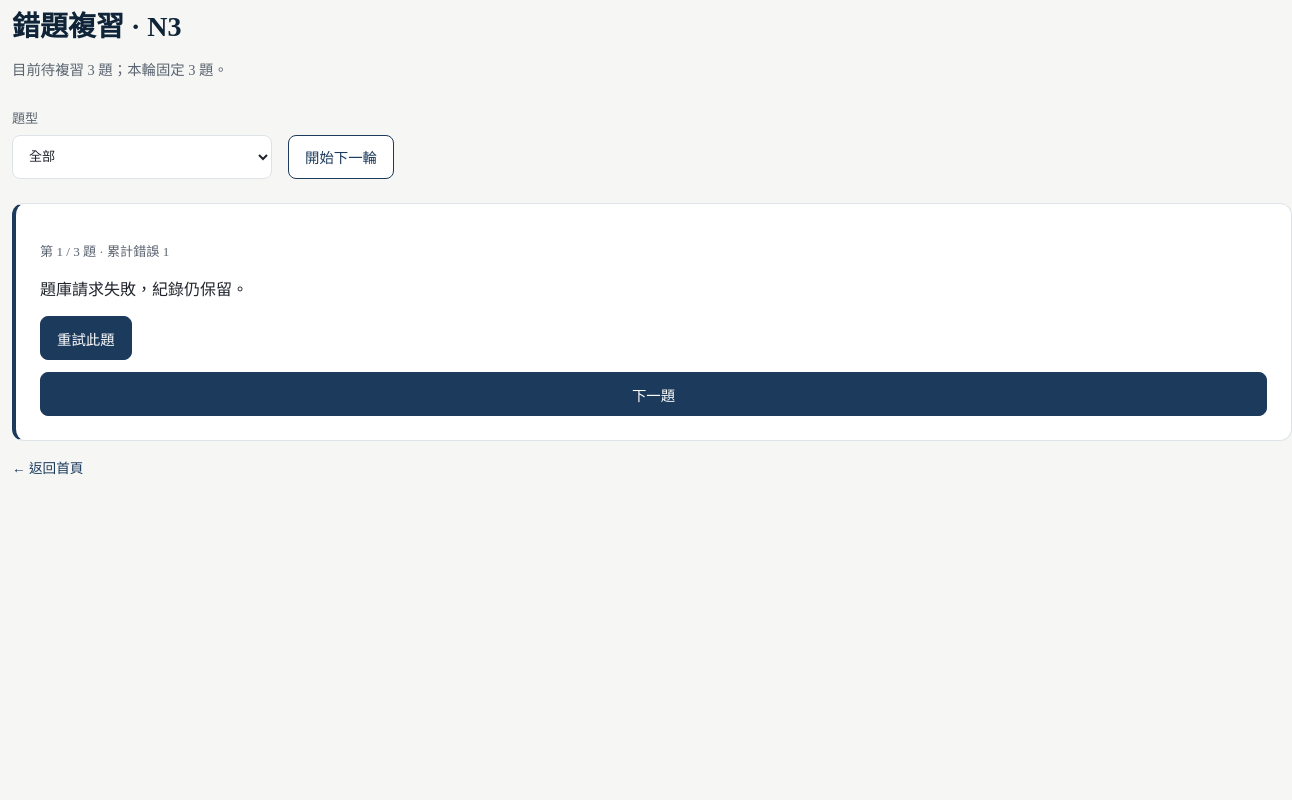
Scenario: review freezes its queue, supports mixed failures, retries, filters and does not erase unavailable summaries
Select "文法" in the dropdown labelled "題型" at [142, 157], box [12,135,272,179]
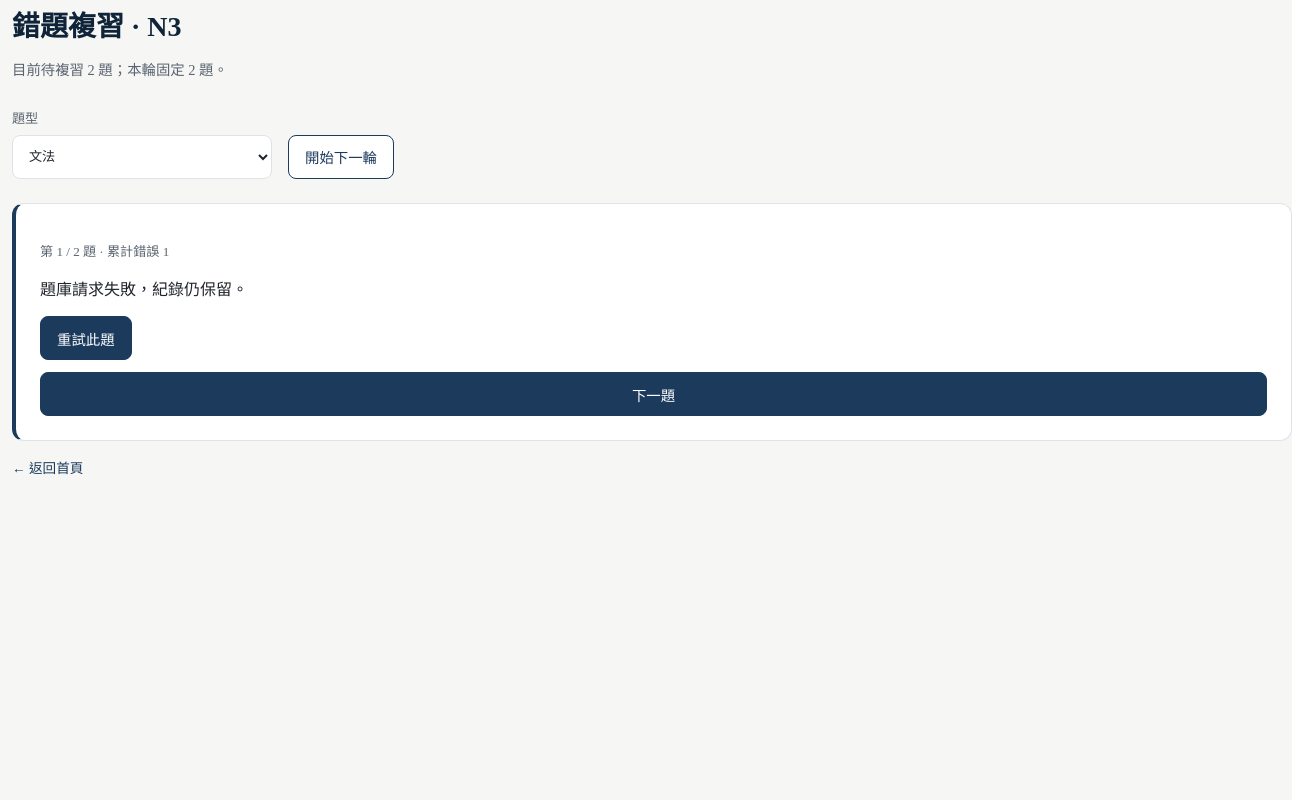
Check: the text "題庫請求失敗" is shown, box [40,281,248,298]
Click the button "重試此題" at [86, 338], box [40,316,132,360]
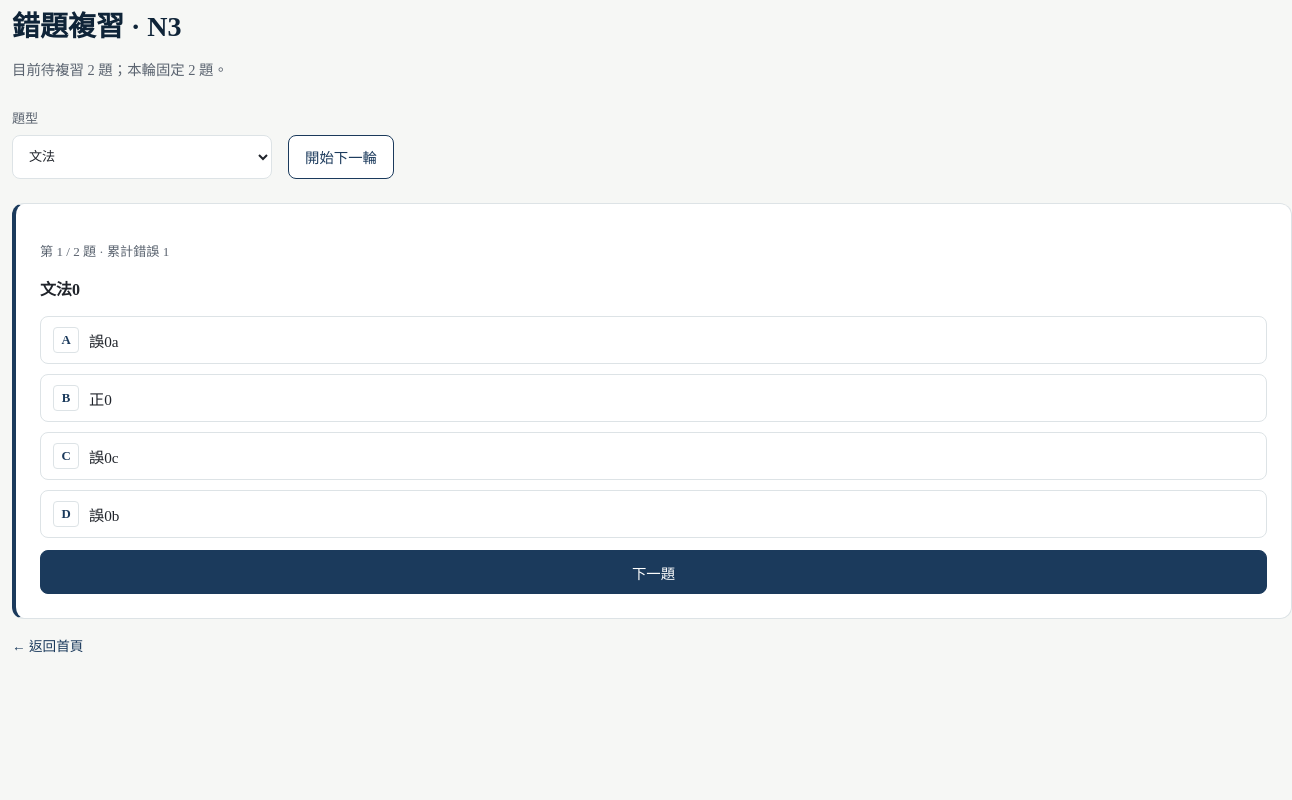
Click the button "B 正0" at [66, 398], box [40,374,1267,422]
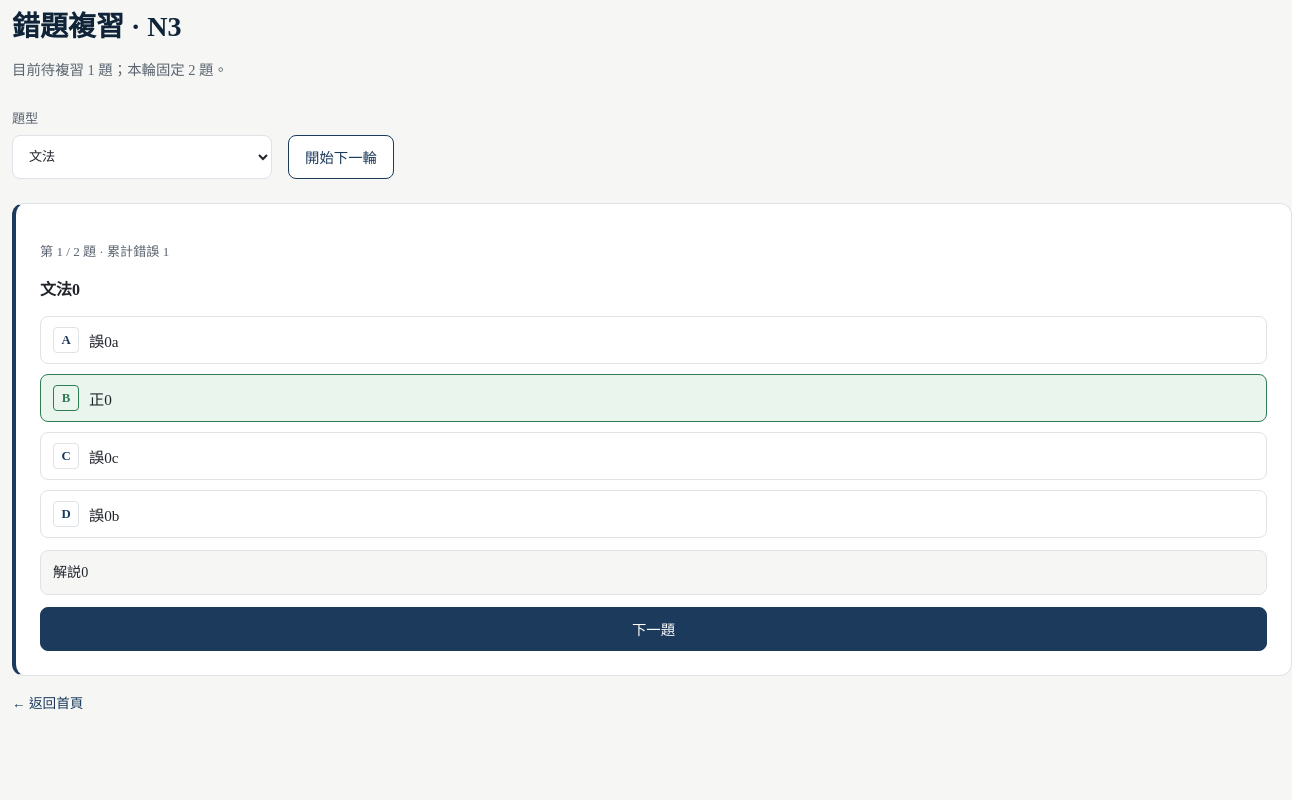
Check: the text "本輪固定 2 題" is shown, box [12,62,228,78]
Click the button "下一題" at [654, 628], box [40,606,1267,650]
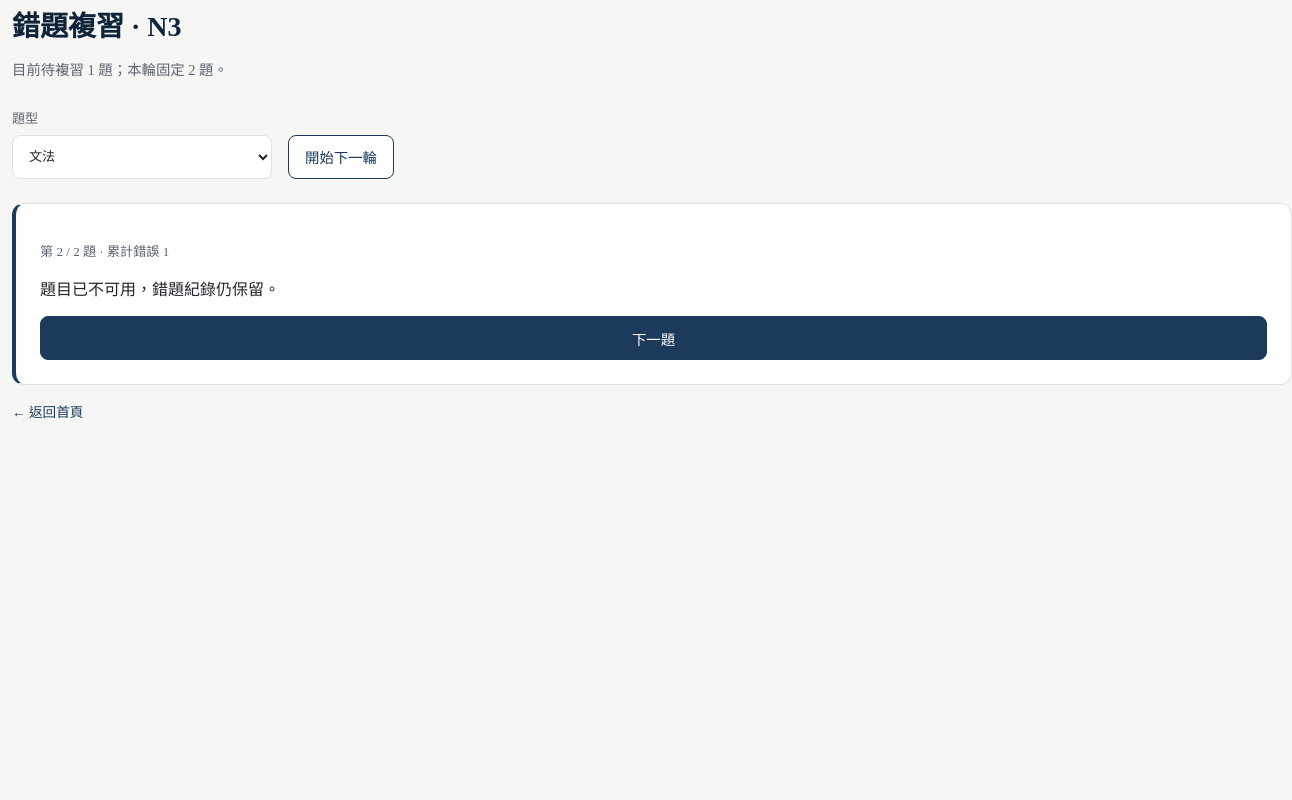
Check: the text "題目已不可用" is shown, box [40,281,280,298]
Click the button "開始下一輪" at [341, 157], box [288,135,394,179]
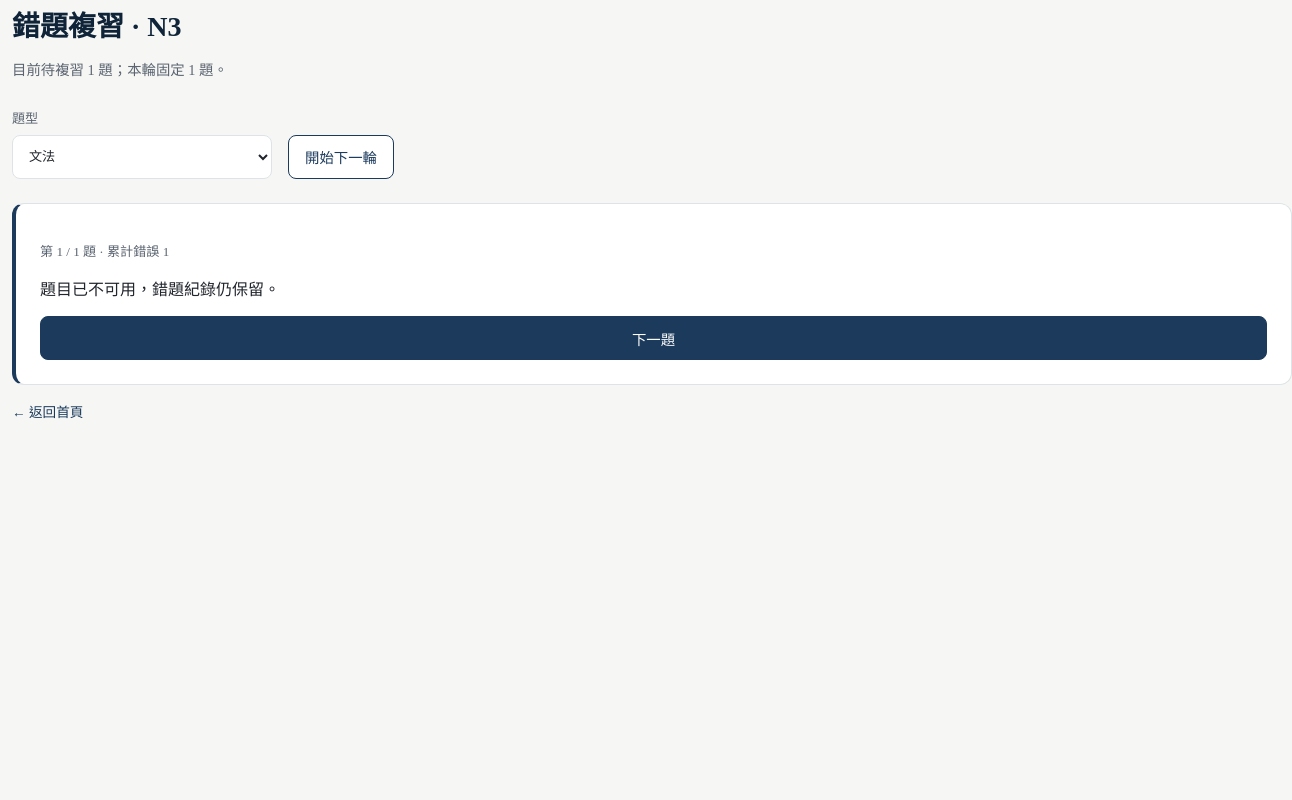
Check: the text "本輪固定 1 題" is shown, box [12,62,228,78]
